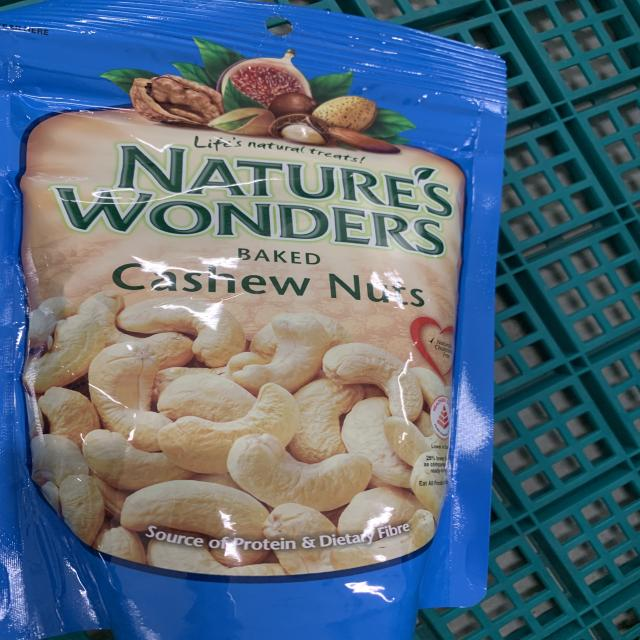object_name: (6, 1, 487, 611)
